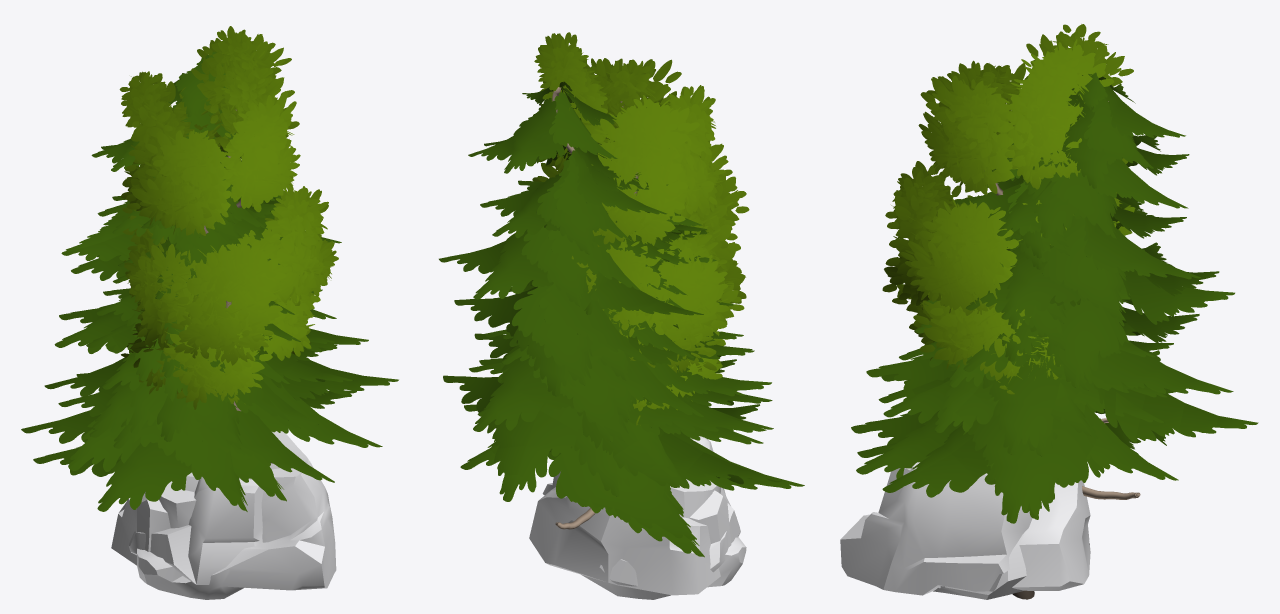
File: nature.glb
3 views of the same model, side by side, from view 1: azimuth 30°, elevation 25°; view 2: azimuth 150°, elevation 25°; view 3: azimuth 270°, elevation 25° (orthographic). The views are drawn at different scales.
Parts seen in each view (by area): view 1: broadleaf_b, pine_a, pine_b, rock_c, broadleaf_a, pine_c, rock_a, rock_b; view 2: pine_a, broadleaf_b, rock_b, pine_b, broadleaf_a, pine_c, rock_a, rock_c; view 3: pine_a, broadleaf_b, rock_c, pine_b, pine_c, rock_b, broadleaf_a, rock_a.
Part boxes in pixels (<box>): broadleaf_b: <box>119,26,338,411</box>; pine_a: <box>21,51,398,501</box>; pine_b: <box>33,179,356,511</box>; rock_c: <box>137,431,336,599</box>; broadleaf_a: <box>121,203,320,409</box>; pine_c: <box>58,162,337,463</box>; rock_a: <box>128,477,263,584</box>; rock_b: <box>111,481,196,565</box>; pine_a: <box>439,81,782,539</box>; broadleaf_b: <box>532,32,749,372</box>; rock_b: <box>529,479,720,595</box>; pine_b: <box>460,222,804,557</box>; broadleaf_a: <box>571,214,744,425</box>; pine_c: <box>477,212,773,488</box>; rock_a: <box>554,436,740,599</box>; rock_c: <box>542,471,746,587</box>; pine_a: <box>857,72,1258,523</box>; broadleaf_b: <box>882,24,1133,599</box>; rock_c: <box>840,462,1032,595</box>; pine_b: <box>851,143,1178,519</box>; pine_c: <box>881,158,1173,456</box>; rock_b: <box>1012,480,1090,590</box>; broadleaf_a: <box>892,192,1135,592</box>; rock_a: <box>933,501,1089,599</box>.
Size of the model in its own units: 6.42 by 9.5 by 6.36.
Materials: 8 (5 with a texture image).
